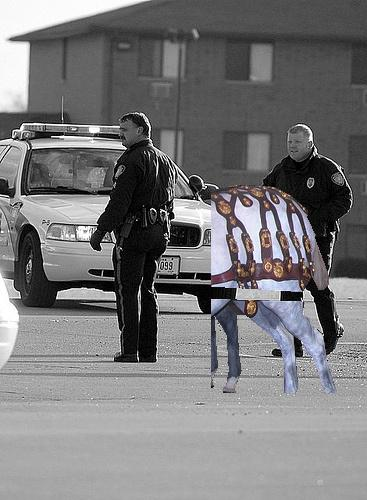tampered: (212, 185, 337, 393)
